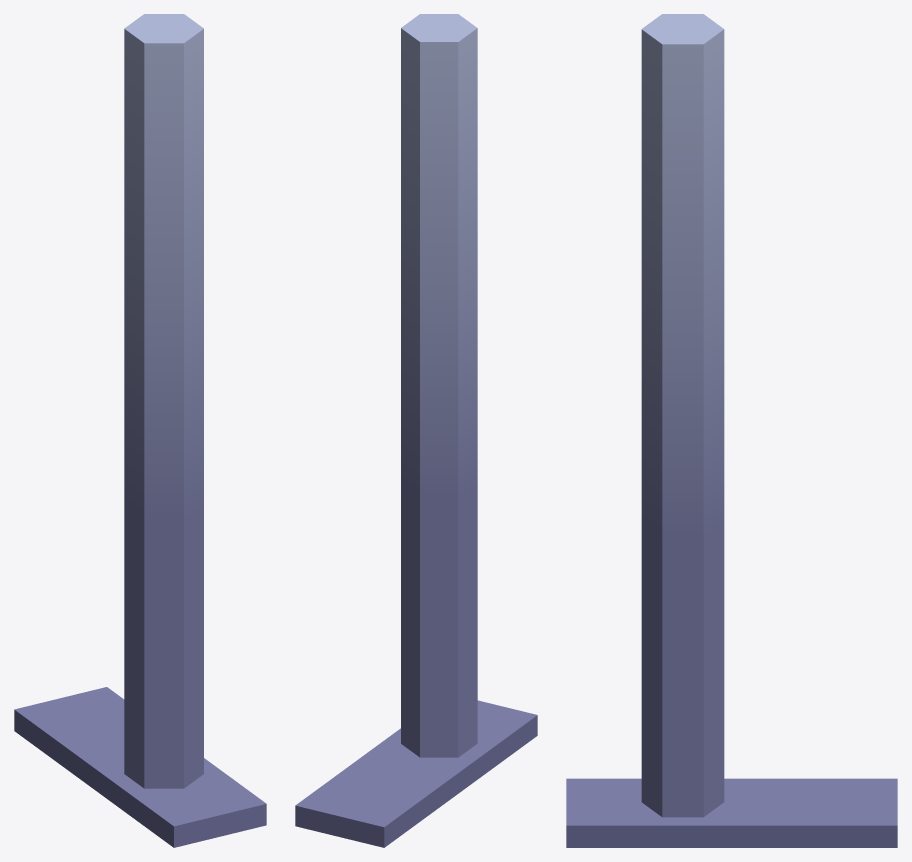
The model's file is wall_cell_one.fbx.
3 renders of one model, left to right at view 1: azimuth 30°, elevation 25°; view 2: azimuth 150°, elevation 25°; view 3: azimuth 270°, elevation 25°, orthographic. The views are drawn at different scales.
Visible parts, largest first — view 1: wall_cell_one; view 2: wall_cell_one; view 3: wall_cell_one.
Part boxes in pixels (bbox=[...]): wall_cell_one: bbox=[14, 14, 266, 847]; wall_cell_one: bbox=[295, 14, 537, 847]; wall_cell_one: bbox=[566, 14, 897, 847].
Size of the model in its own units: 0.25 by 1.98 by 0.746.
